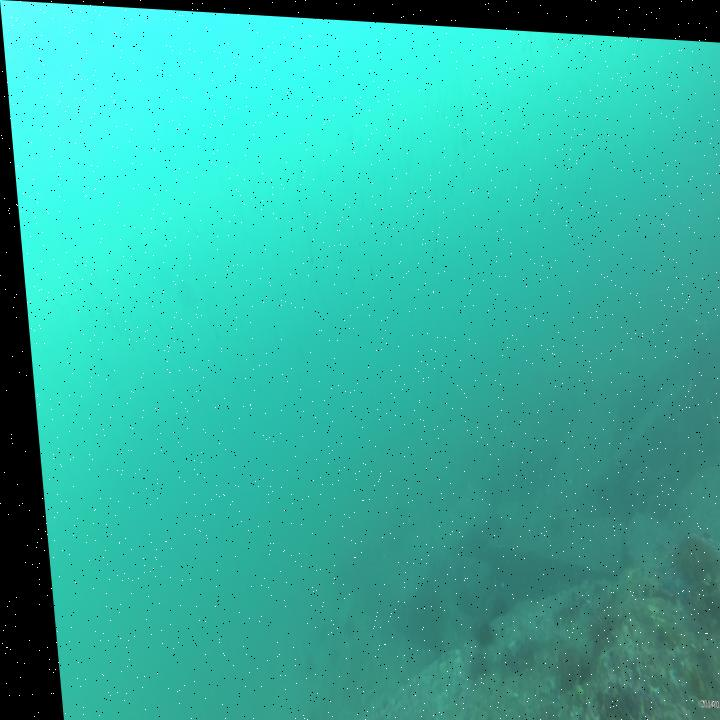echinus: (664, 525, 712, 572), (543, 638, 575, 678), (463, 621, 485, 647), (476, 585, 497, 610)
